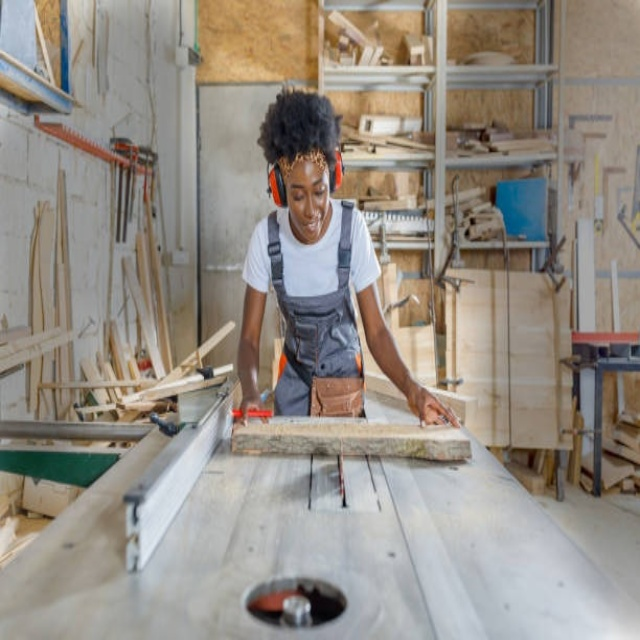Sin_gafas: (288, 173, 328, 204)
Sin_guantes: (414, 386, 462, 431)
Sin_mascara: (300, 216, 323, 240)
